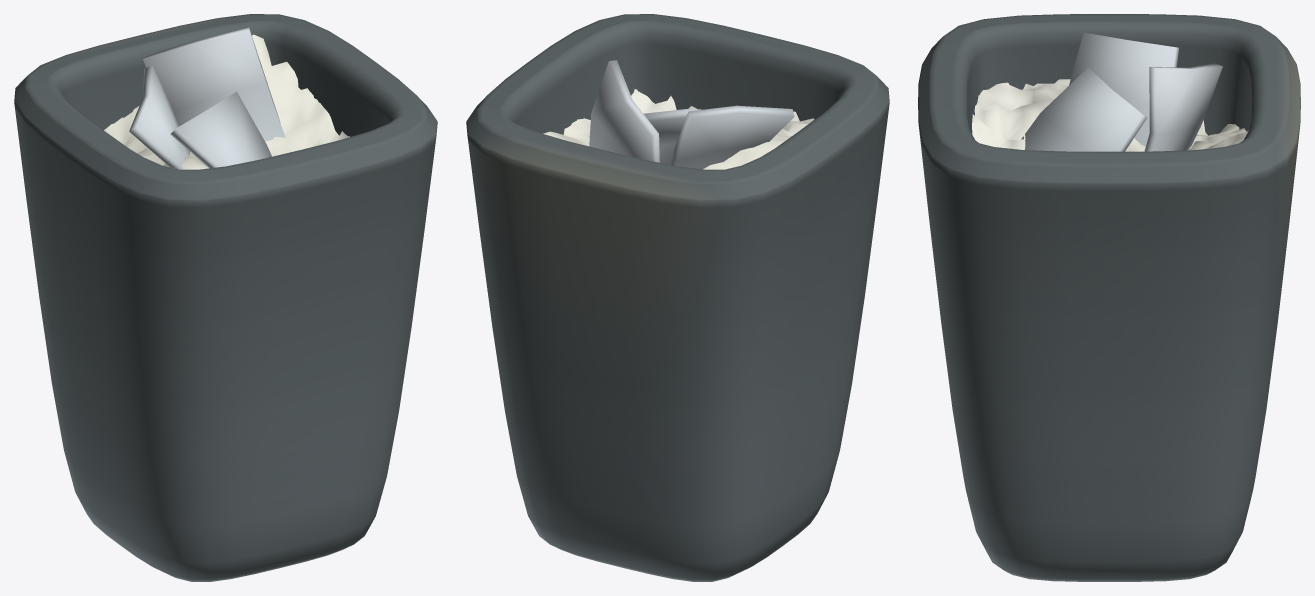
File: trash_bin.fbx
3 renders of one model, left to right at view 1: azimuth 30°, elevation 25°; view 2: azimuth 150°, elevation 25°; view 3: azimuth 270°, elevation 25°, orthographic. The views are drawn at different scales.
Parts seen in each view (by area): view 1: trash_bin; view 2: trash_bin; view 3: trash_bin.
Part boxes in pixels (<box>): trash_bin: <box>14,14,437,581</box>; trash_bin: <box>466,14,889,581</box>; trash_bin: <box>918,14,1300,581</box>.
Bounding box in the file's own units: 33.06 × 46.7 × 33.06.
